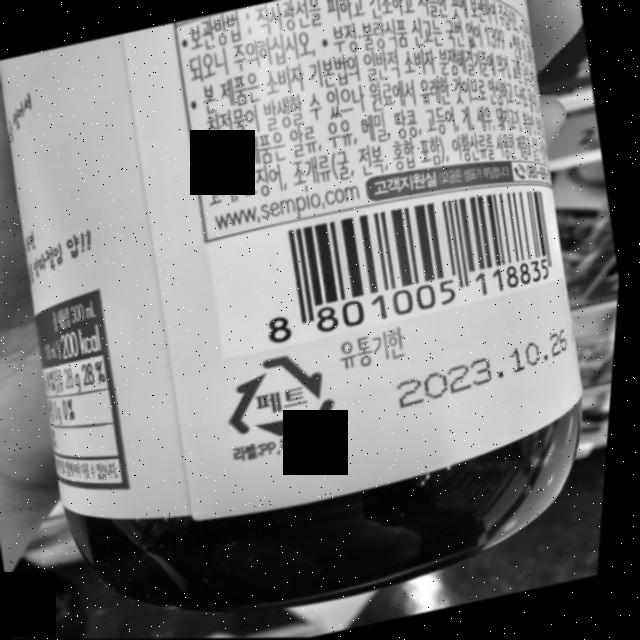PET: (218, 342, 353, 449)
